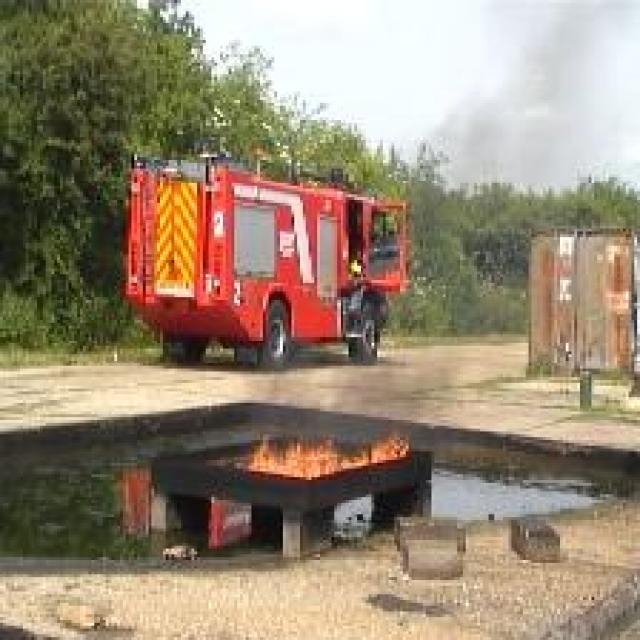Fire: (248, 434, 408, 480)
